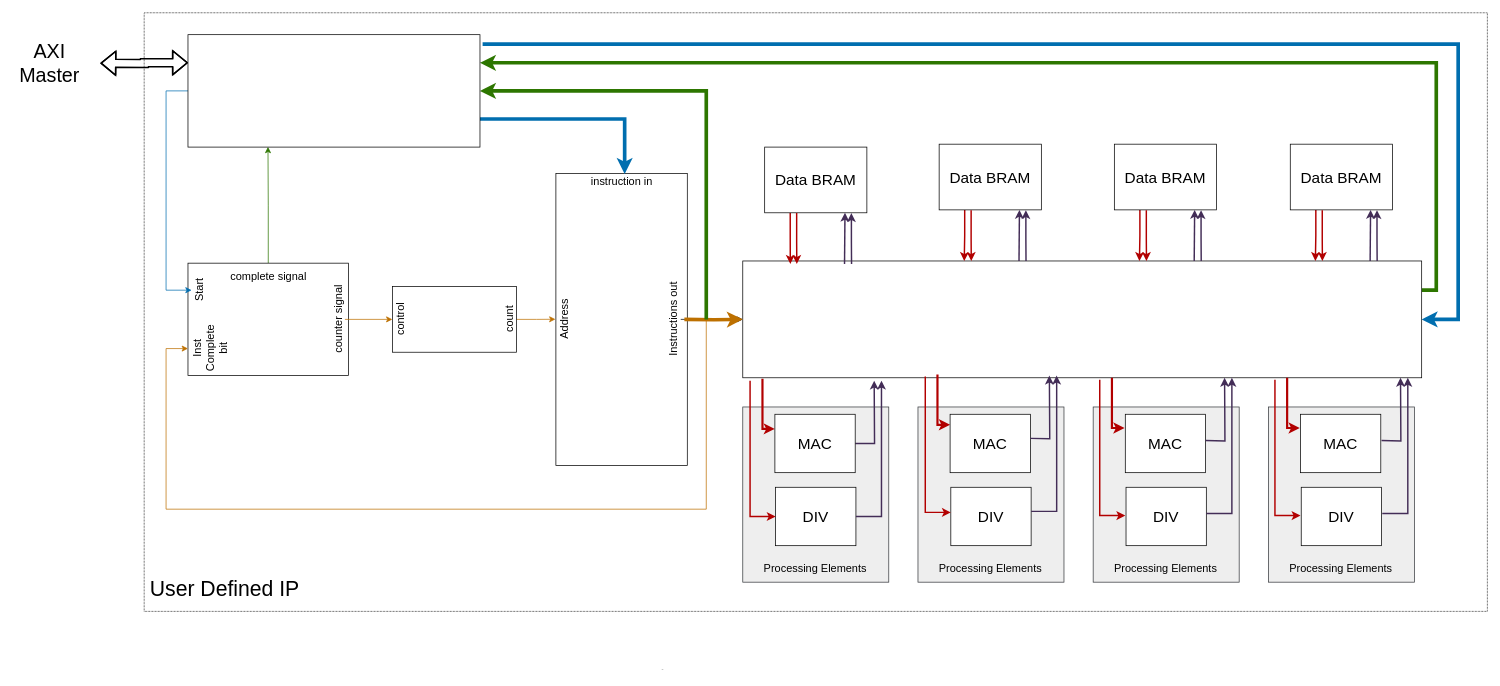
The diagram is 1500 pixels wide and 686 high, and some of its shapes have lost their labels. Here are the shapes that lost their labels. From the top down, the box of each, then its label:
(187, 34, 480, 147): AXI Slave Controller
(187, 262, 349, 376): FSM
(392, 286, 516, 352): Counter
(555, 173, 687, 465): Instruction BRAM
(742, 260, 1422, 378): Crossbar Switch
